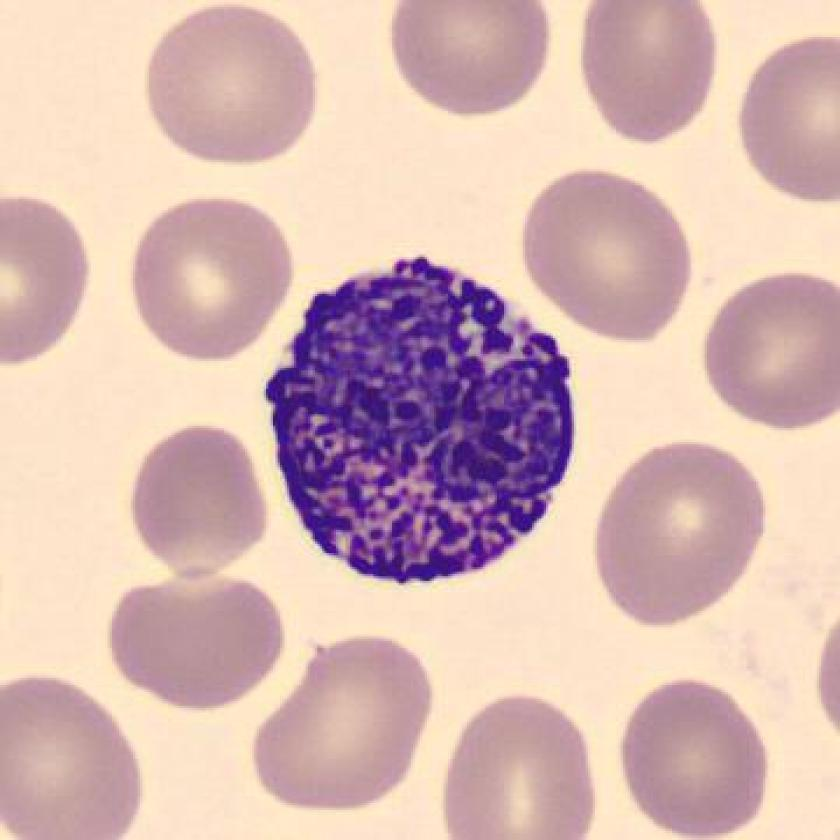basophil: (253, 246, 591, 591)
